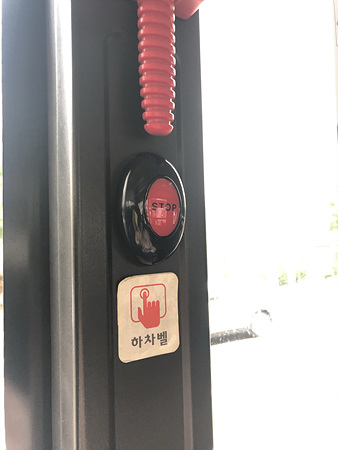bell: (118, 152, 186, 268)
